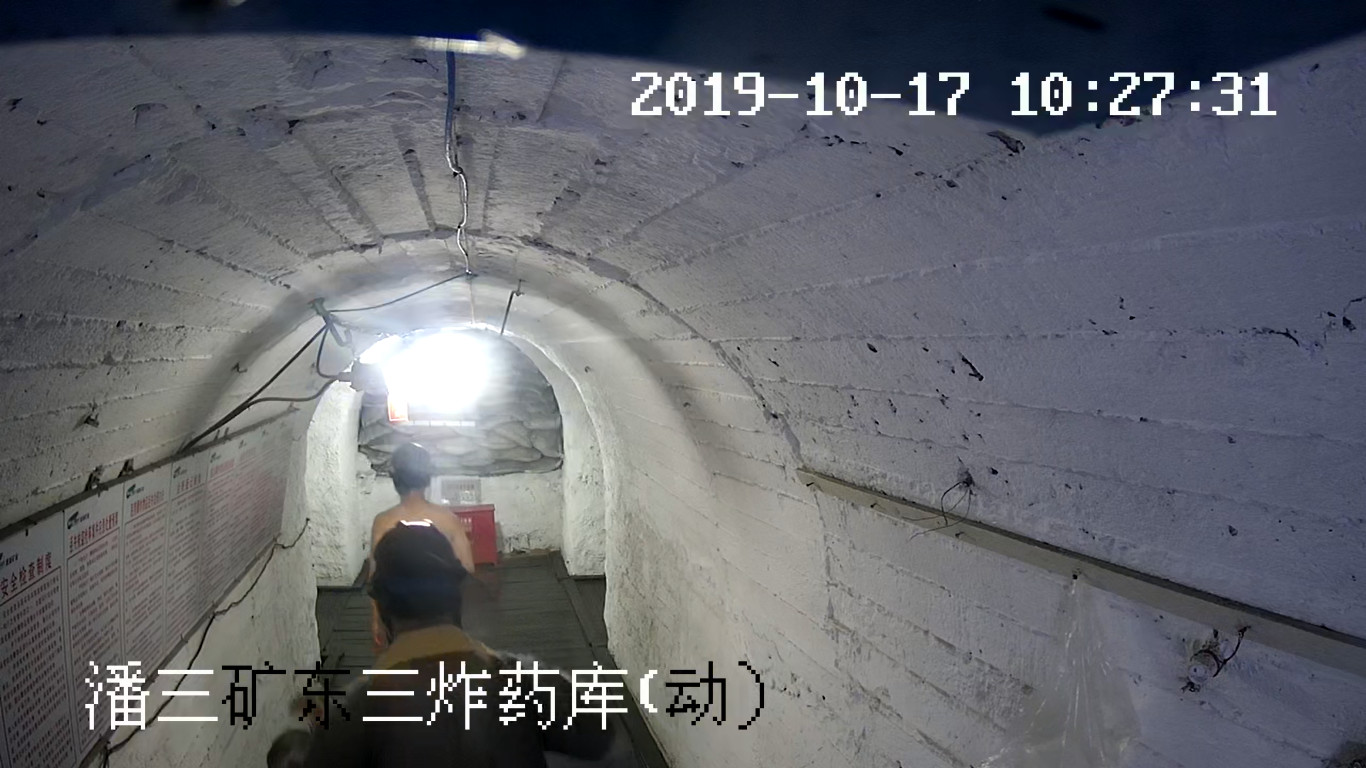helmet: (368, 518, 466, 598), (388, 440, 432, 477)
